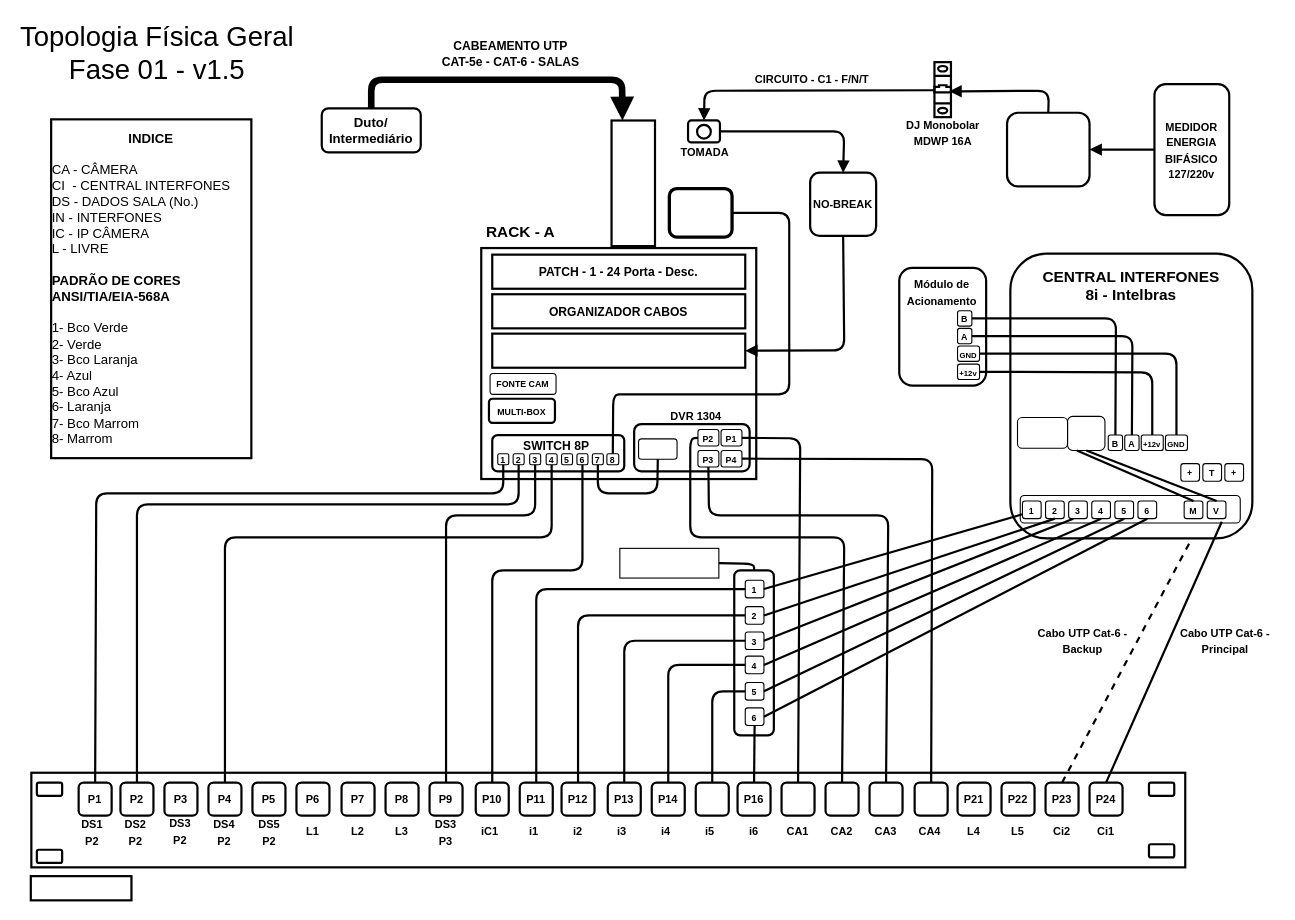
Image size: 1295x920. Some labels were removed from this diagram. Here are the shapes that lost their labels. From the top down, the centre of each, then its label:
At point (1047, 149): "QUADRO ENERGIA".
At point (633, 183): "DUTO passagem CABOS".
At point (700, 212): "ROTEADOR".
At point (618, 350): "RÉGUA 12 TOMADAS - C1".
At point (657, 448): "LAN1".
At point (1042, 432): "Marrom Verde (+)".
At point (1085, 432): "C+ COMUM".
At point (669, 562): "CONECTOR 221-2411 4MM WAGO".
At point (711, 798): "P15".
At point (797, 798): "P17".
At point (841, 798): "P18".
At point (885, 798): "P19".
At point (930, 798): "P20".
At point (80, 888): "Patch Panel -1".
